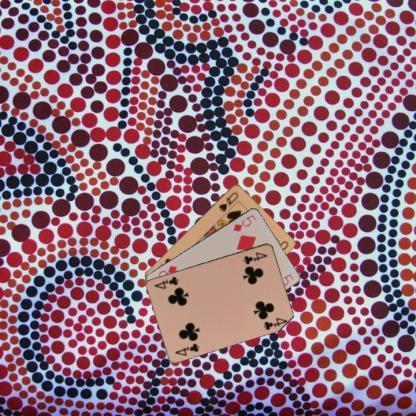4c: (172, 340, 200, 357), (242, 249, 269, 266)
5d: (230, 212, 257, 235)
Qs: (217, 189, 240, 213)
